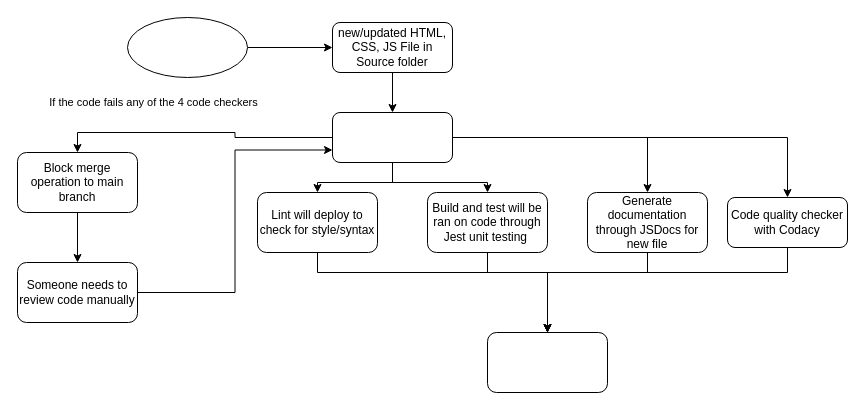
This 865x410 diagram has some shape labels left out. The centre of each missing label's shape, as x and y in pixels:
Merge allowed to main branch: the point at 547,362
Pull request submission: the point at 392,137
Start: the point at 187,47
